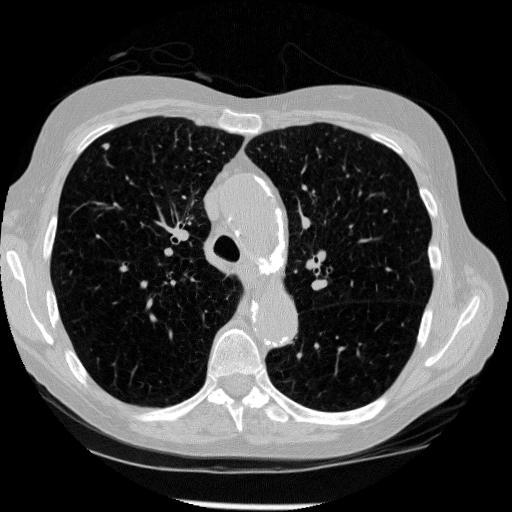nodule: (99, 140, 113, 154)
